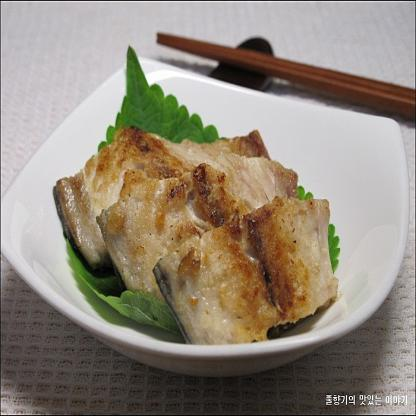Peixe: (23, 116, 352, 359)
